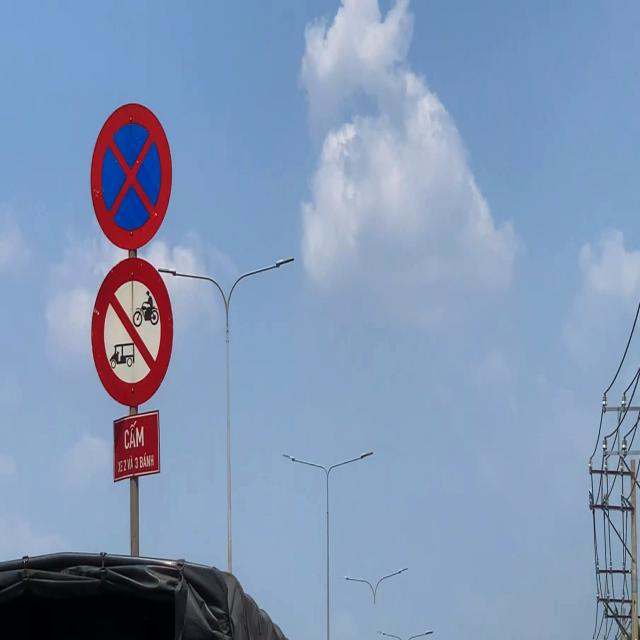Cam con lai: (91, 260, 174, 406)
Cam dung va do: (87, 98, 175, 255)
